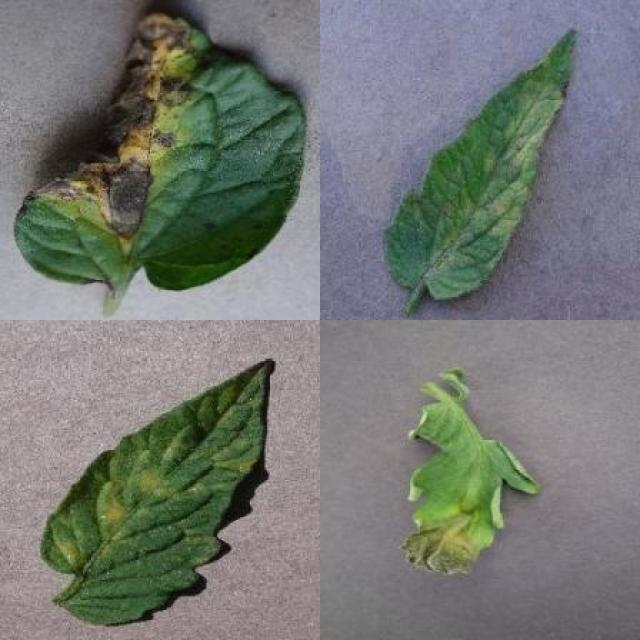Early Blight: (16, 9, 308, 292)
Late Blight: (402, 397, 539, 579)
Leaf Mold: (41, 357, 270, 626), (385, 26, 576, 297)
